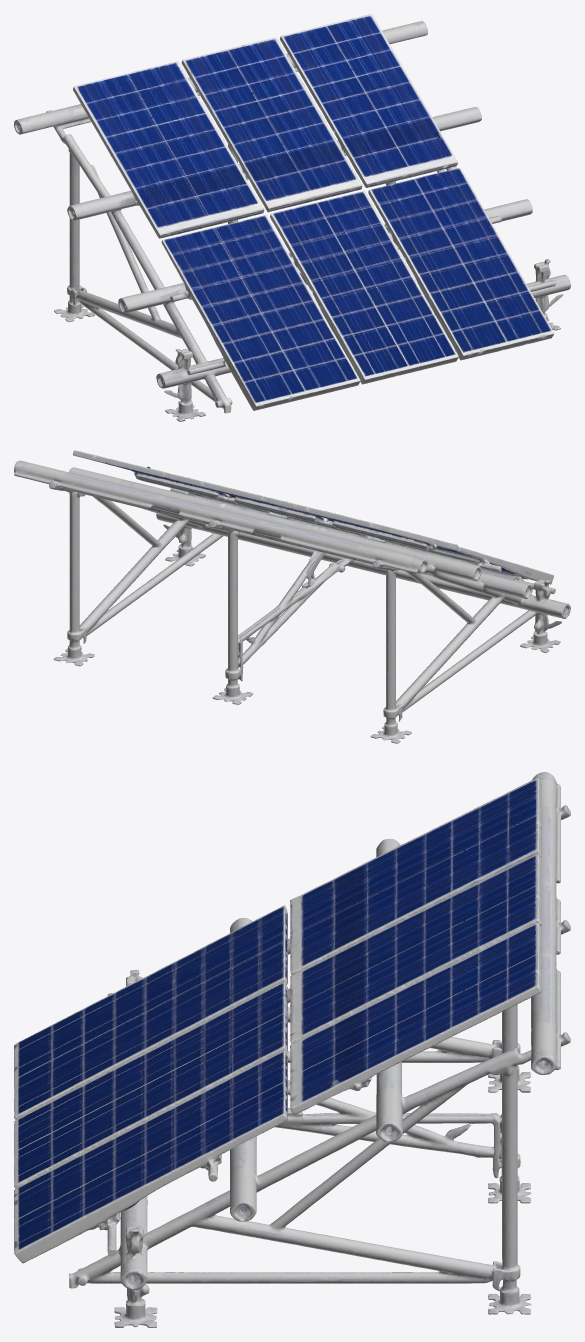
The model's file is solar_panel.glb.
The picture shows the model from 3 angles, top to bottom: view 1: azimuth 30°, elevation 25°; view 2: azimuth 150°, elevation 25°; view 3: azimuth 270°, elevation 25°; orthographic projection. The views are drawn at different scales.
Parts seen in each view (by area): view 1: mesh_node; view 2: mesh_node; view 3: mesh_node.
Boxes of the visible parts, bbox=[...] form: mesh_node: bbox=[14, 14, 570, 421]; mesh_node: bbox=[14, 450, 570, 743]; mesh_node: bbox=[14, 772, 570, 1327].
Bounding box in the file's own units: 1.9 × 0.9742 × 1.57.
Materials: 1 (1 with a texture image).
